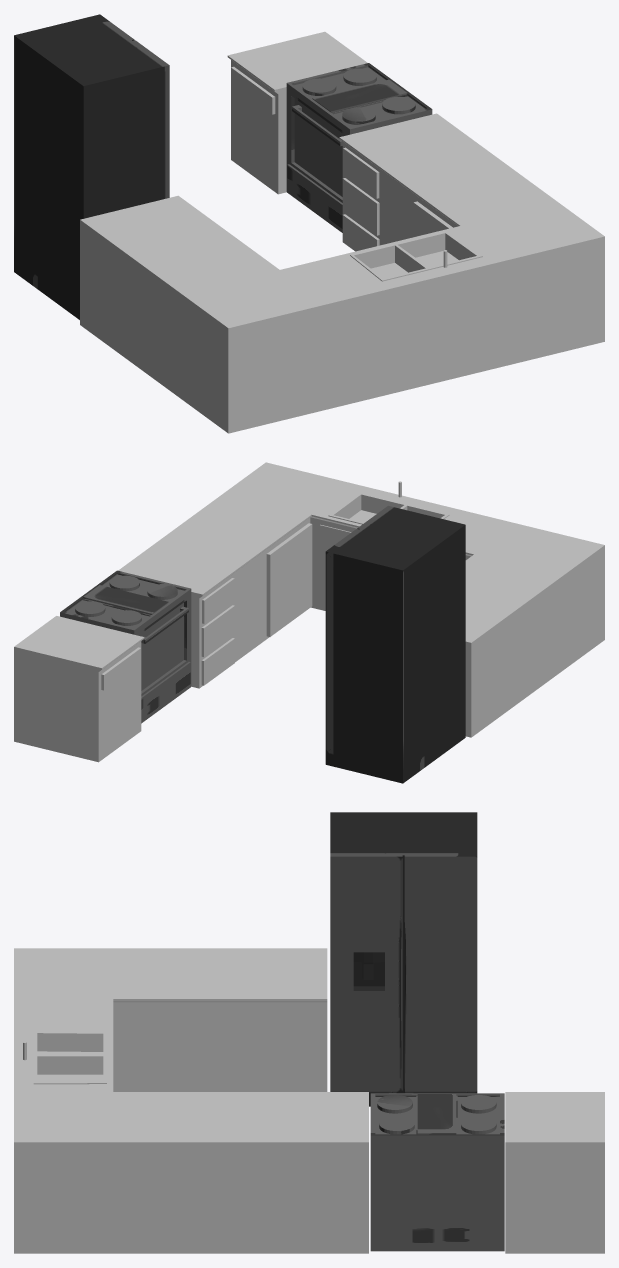
File: kitchen.fbx
3 views of the same model, one above another, from view 1: azimuth 30°, elevation 25°; view 2: azimuth 150°, elevation 25°; view 3: azimuth 270°, elevation 25° (orthographic). The views are drawn at different scales.
Visible parts, largest first — view 1: KitchenCounter, Refridgerator, Cylinder.010; view 2: KitchenCounter, Refridgerator, Cylinder.010; view 3: KitchenCounter, Refridgerator, Cylinder.010.
Boxes of the visible parts, x1,y1,x2,y2 form: KitchenCounter: [80, 31, 604, 433]; Refridgerator: [14, 14, 169, 319]; Cylinder.010: [286, 63, 432, 232]; KitchenCounter: [14, 462, 604, 762]; Refridgerator: [325, 505, 465, 783]; Cylinder.010: [60, 570, 191, 723]; KitchenCounter: [14, 948, 604, 1253]; Refridgerator: [330, 812, 477, 1106]; Cylinder.010: [370, 1093, 504, 1251].
Bounding box in the file's own units: 800 × 481 × 1030.
